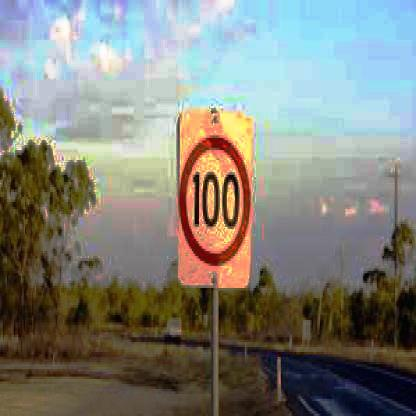Speed Limit -100-: (172, 135, 257, 265)
